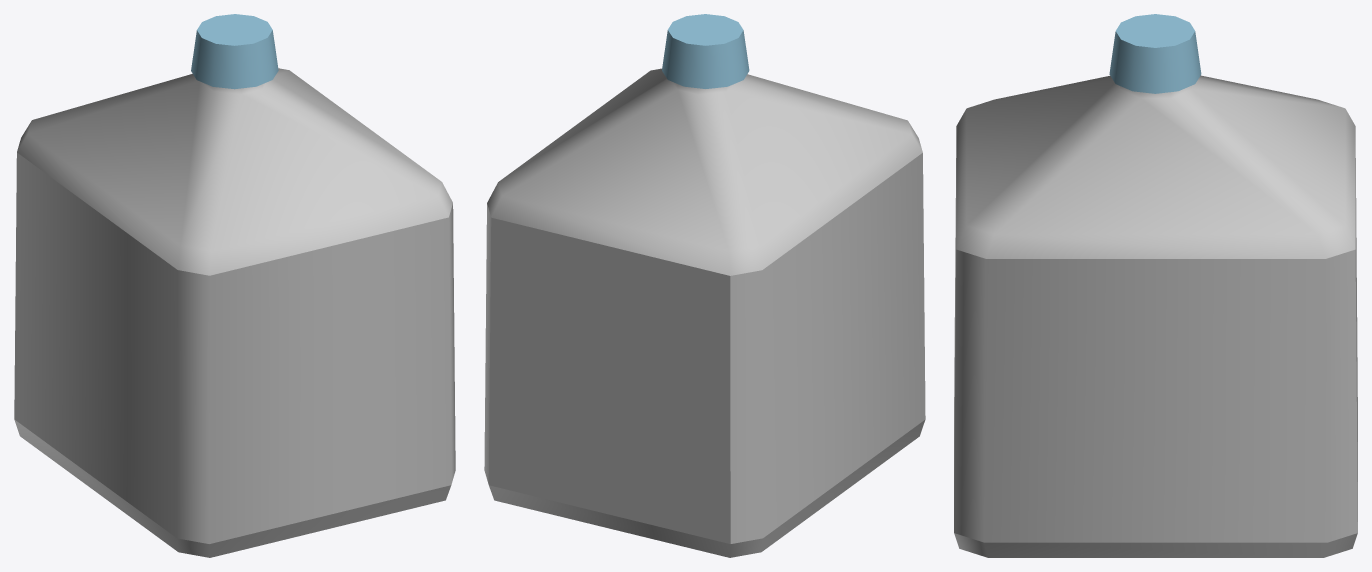
File: SM_Bottle_04.fbx
3 views of the same model, side by side, from view 1: azimuth 30°, elevation 25°; view 2: azimuth 150°, elevation 25°; view 3: azimuth 270°, elevation 25° (orthographic). The views are drawn at different scales.
Visible parts, largest first — view 1: SM_Bottle_04; view 2: SM_Bottle_04; view 3: SM_Bottle_04.
Boxes of the visible parts, box(x1,y1,x2,y2) form: SM_Bottle_04: box(14, 14, 455, 557); SM_Bottle_04: box(484, 14, 925, 557); SM_Bottle_04: box(954, 14, 1357, 557).
Size of the model in its own units: 14.53 by 21.49 by 17.22.
